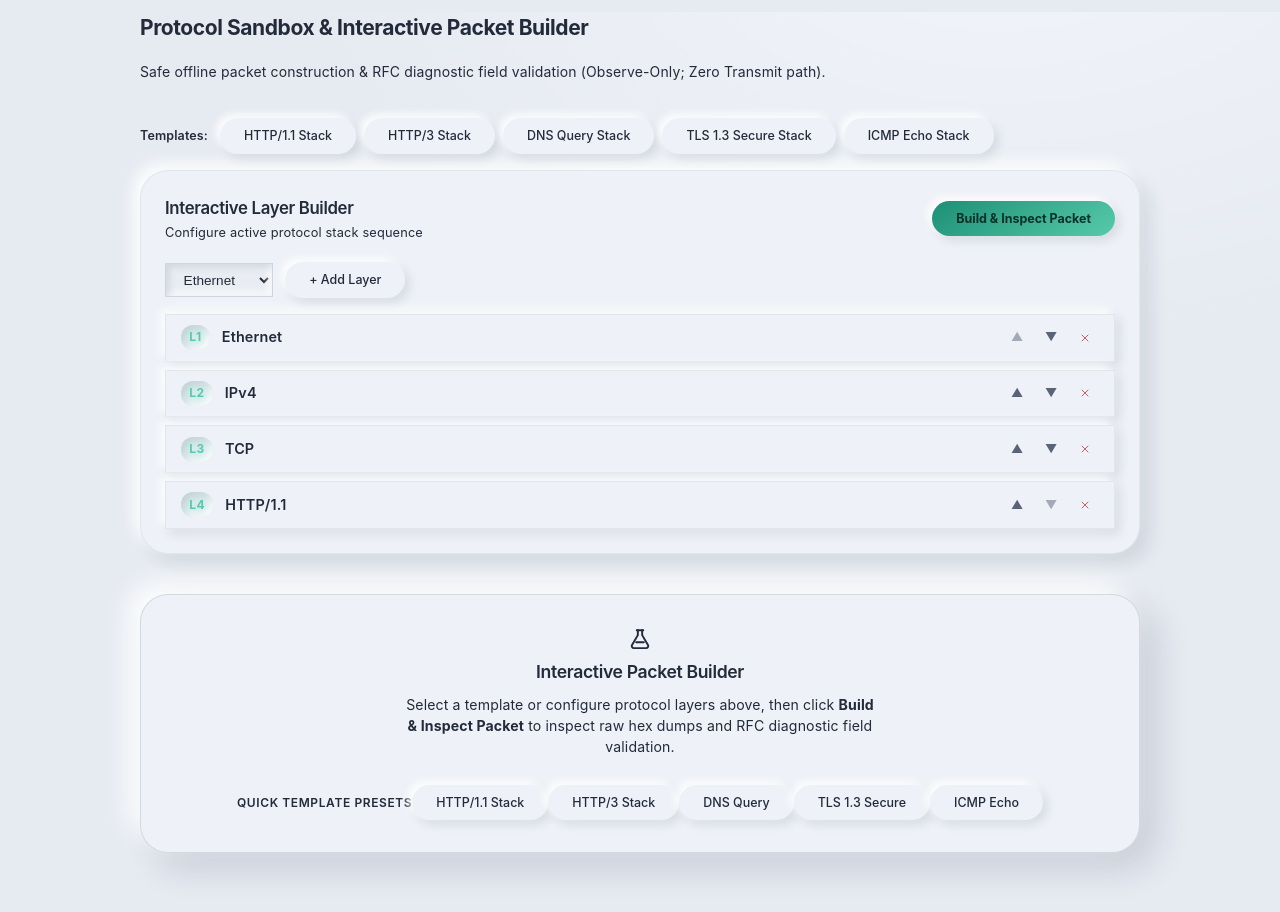
Test: ProtocolSandboxScreen & useSandboxController › exposes accessible copy hex and copy json buttons with byte count badge
Click the button "Build & Inspect Packet": x=1024, y=218 [932, 201, 1115, 236]
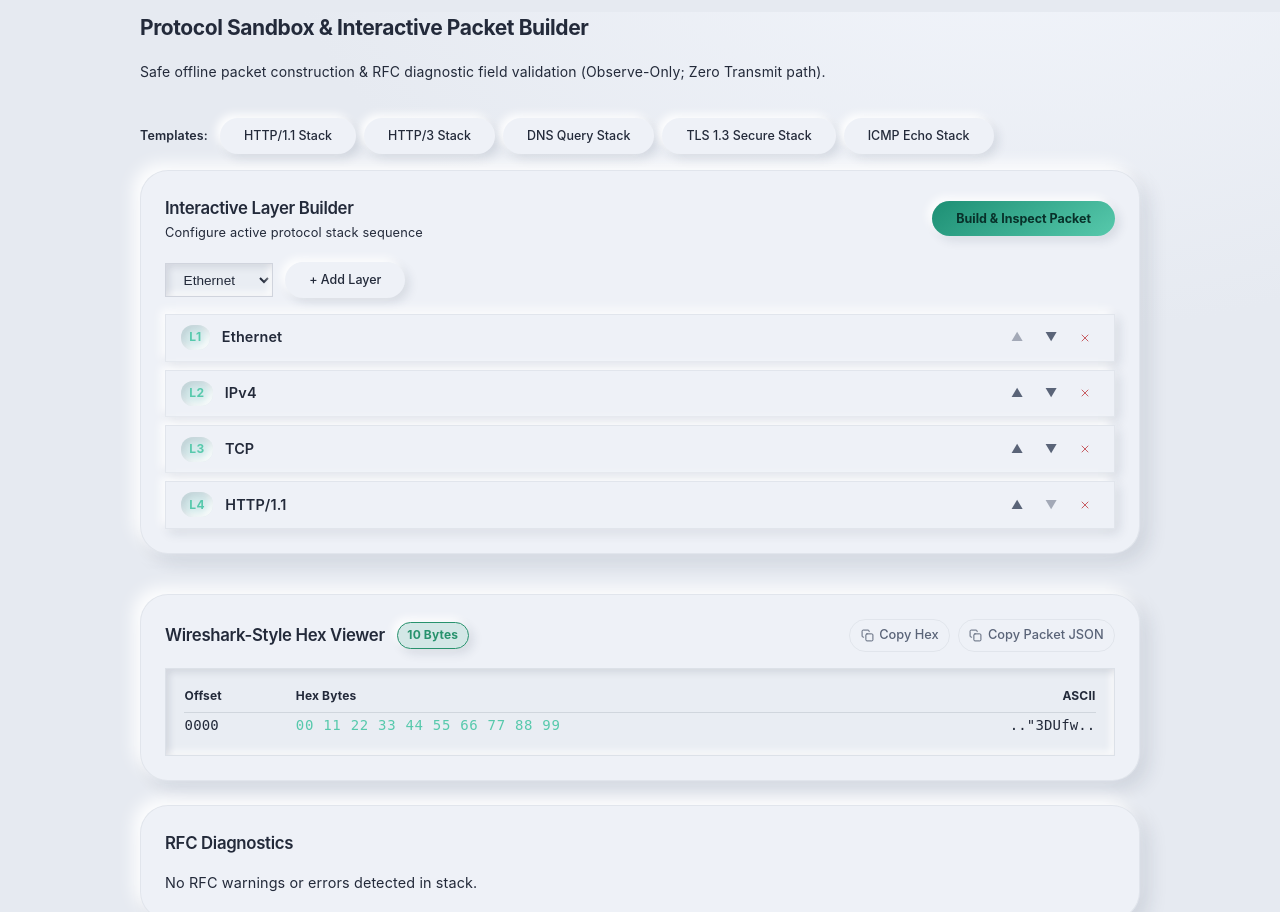
expect the text "10 Bytes" is shown: met, box [397, 622, 469, 649]
expect the button with aria-label "Copy raw hex bytes to clipboard" is shown: met, box [849, 619, 950, 652]
expect the button with aria-label "Copy JSON packet structure to clipboard" is shown: met, box [958, 619, 1115, 652]
